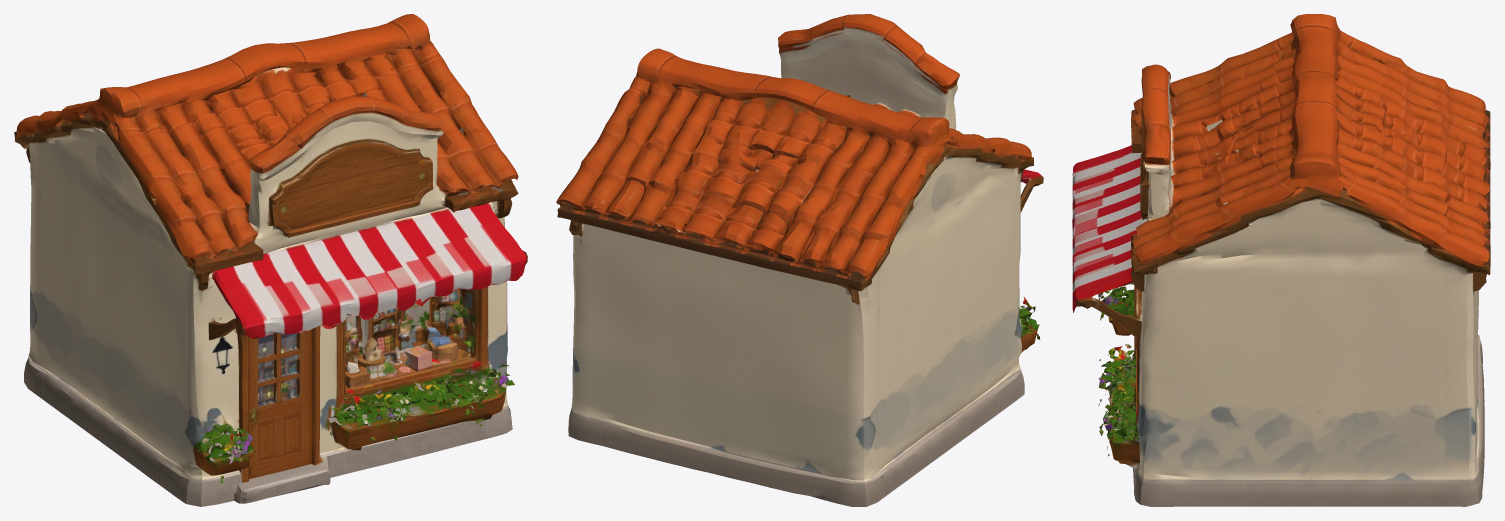
Rendered from dukkan1.glb.
3 views of the same model, side by side, from view 1: azimuth 30°, elevation 25°; view 2: azimuth 150°, elevation 25°; view 3: azimuth 270°, elevation 25° (orthographic). The views are drawn at different scales.
Parts seen in each view (by area): view 1: Mesh0; view 2: Mesh0; view 3: Mesh0.
Boxes of the visible parts, box(x1,y1,x2,y2) form: Mesh0: box(14, 14, 527, 506); Mesh0: box(556, 14, 1043, 506); Mesh0: box(1072, 14, 1490, 506).
Bounding box in the file's own units: 1.72 × 1.79 × 1.9.
Materials: 1 (1 with a texture image).
